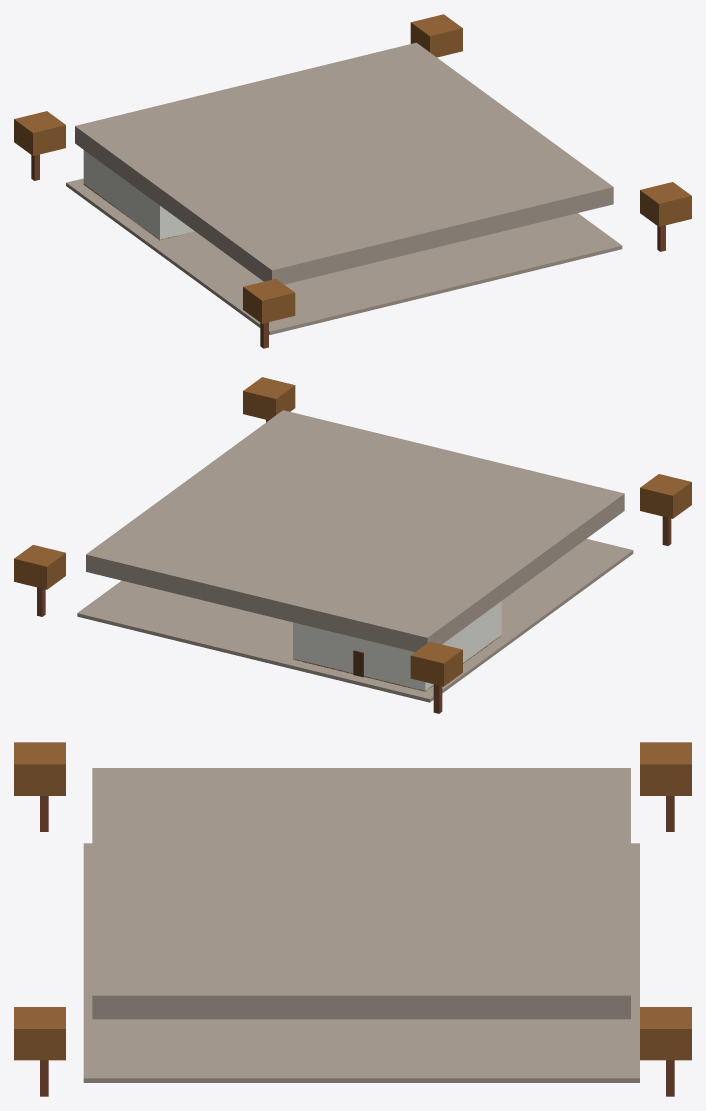
Rendered from enhanced_boq_fallback_1751743393165_obn87tx07.obj.
3 renders of one model, top to bottom at view 1: azimuth 30°, elevation 25°; view 2: azimuth 150°, elevation 25°; view 3: azimuth 270°, elevation 25°, orthographic. The views are drawn at different scales.
Parts seen in each view (by area): view 1: Roof, Foundation, Wall_Left_0, TreeFoliage_2, TreeFoliage_0, TreeFoliage_3, TreeFoliage_1, Wall_Back_0; view 2: Roof, Foundation, Wall_Front_0, TreeFoliage_0, TreeFoliage_2, TreeFoliage_1, TreeFoliage_3, Wall_Left_0; view 3: Roof, Foundation, TreeFoliage_0, TreeFoliage_1, TreeFoliage_2, TreeFoliage_3.
Part boxes in pixels (x1,y1,x2,y2): Roof: (75,42,613,284); Foundation: (66,178,622,334); Wall_Left_0: (83,150,161,239); TreeFoliage_2: (243,279,295,323); TreeFoliage_0: (14,111,65,155); TreeFoliage_3: (640,182,691,226); TreeFoliage_1: (410,14,462,57); Wall_Back_0: (158,205,194,239); Roof: (86,410,624,651); Foundation: (77,538,633,702); Wall_Front_0: (293,623,426,690); TreeFoliage_0: (410,641,462,686); TreeFoliage_2: (640,474,691,518); TreeFoliage_1: (14,545,65,589); TreeFoliage_3: (243,377,295,420); Wall_Left_0: (423,602,501,691); Roof: (92,768,630,1019); Foundation: (83,843,639,1082); TreeFoliage_0: (640,742,691,795); TreeFoliage_1: (640,1007,691,1060); TreeFoliage_2: (14,742,65,795); TreeFoliage_3: (14,1007,65,1060).
Bounding box in the file's own units: 39 × 5.3 × 39.
